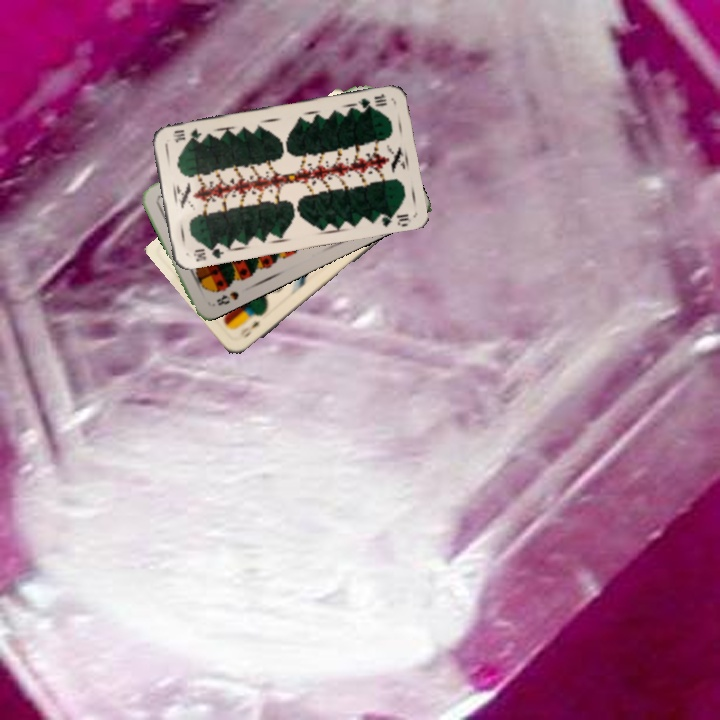EO: (236, 317, 262, 341)
G10: (189, 241, 227, 264), (351, 89, 389, 111)
S8: (212, 287, 241, 308)
